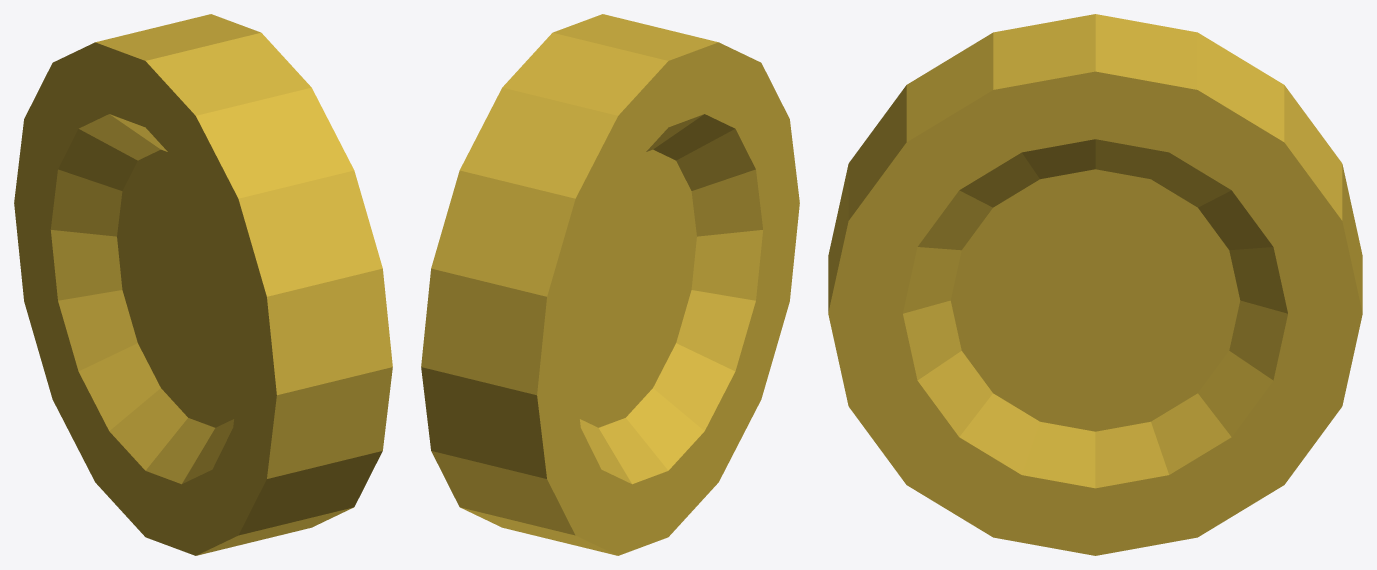
The model's file is Coin.fbx.
The picture shows the model from 3 angles, left to right: view 1: azimuth 30°, elevation 25°; view 2: azimuth 150°, elevation 25°; view 3: azimuth 270°, elevation 25°; orthographic projection.
Parts seen in each view (by area): view 1: Cylinder; view 2: Cylinder; view 3: Cylinder.
Boxes of the visible parts, x1,y1,x2,y2 form: Cylinder: [14, 14, 392, 555]; Cylinder: [421, 14, 799, 555]; Cylinder: [828, 14, 1362, 555].
Size of the model in its own units: 12.74 by 50 by 50.
